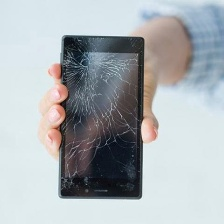phone: (54, 31, 146, 202)
